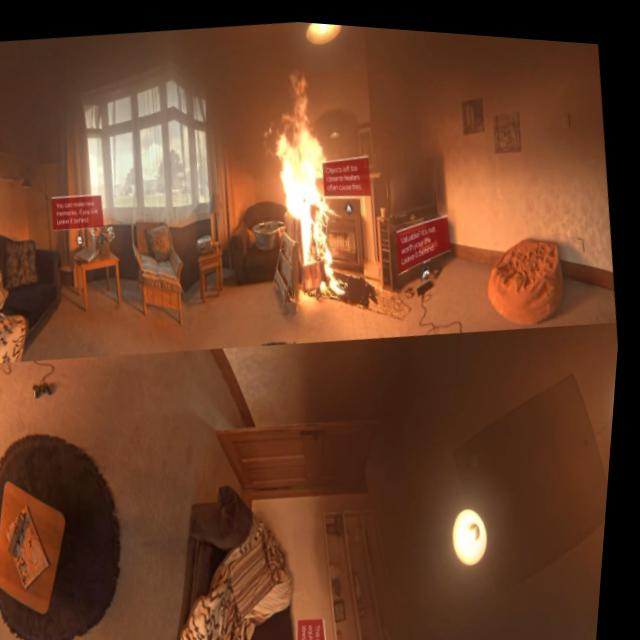fire: (253, 57, 360, 296)
